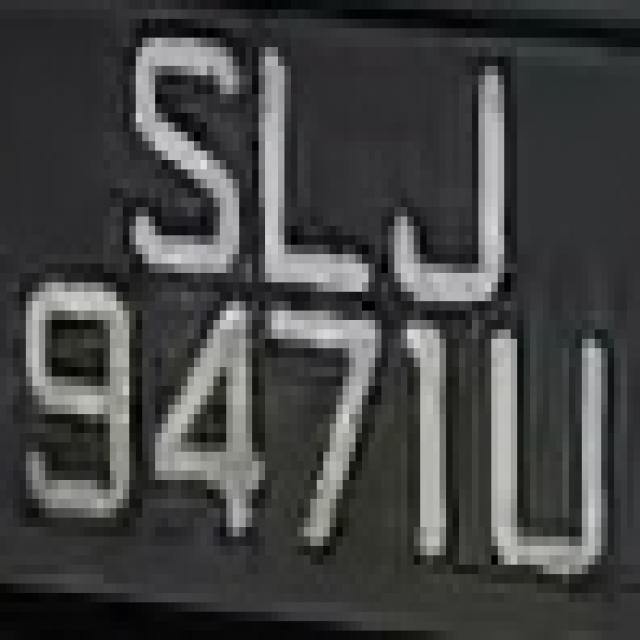1: (388, 311, 478, 574)
4: (149, 264, 291, 556)
7: (252, 264, 382, 556)
9: (13, 264, 142, 556)
J: (388, 19, 530, 329)
L: (252, 9, 388, 292)
S: (97, 18, 252, 310)
U: (478, 292, 614, 593)
